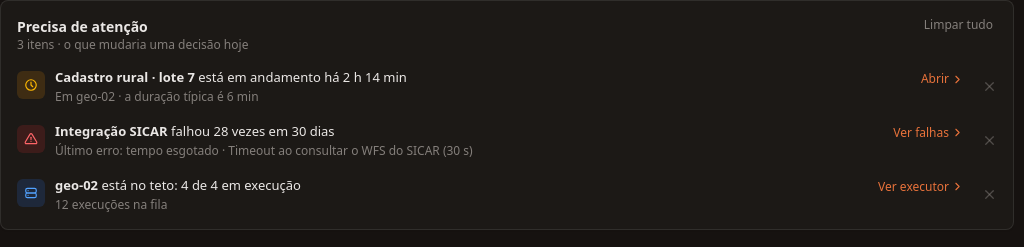
Scenario: AtencaoLista › dispensar um item o esconde; Restaurar traz de volta
This screenshot has width=1024, height=247.
Click the button named "Dispensar o alerta de Integração SICAR". click: [990, 141]
box: [974,115,1005,167]
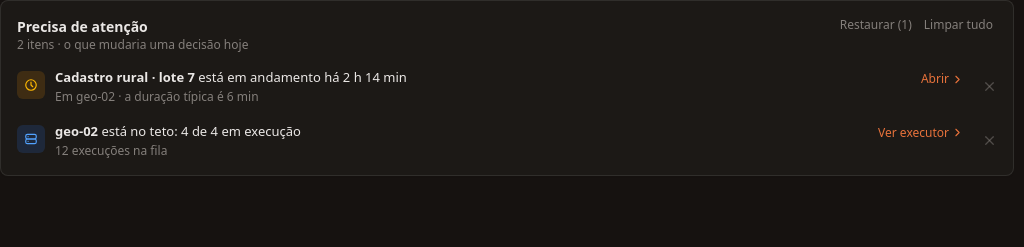
Expected: the button "Integração SICAR falhou" is gone
Expected: the text "2 itens · o que mudaria uma decisão hoje" is shown, [17,37,248,53]
Click the button "Restaurar (1)". click: [876, 25]
box: [836,17,916,33]
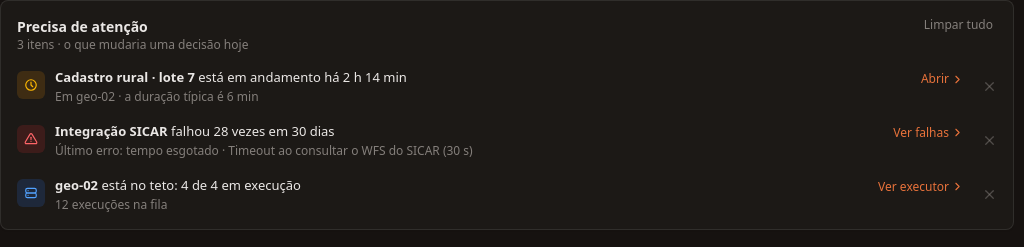
Expected: the button "Integração SICAR falhou" is shown, [9,115,972,167]
Expected: the text "3 itens · o que mudaria uma decisão hoje" is shown, [17,37,248,53]
